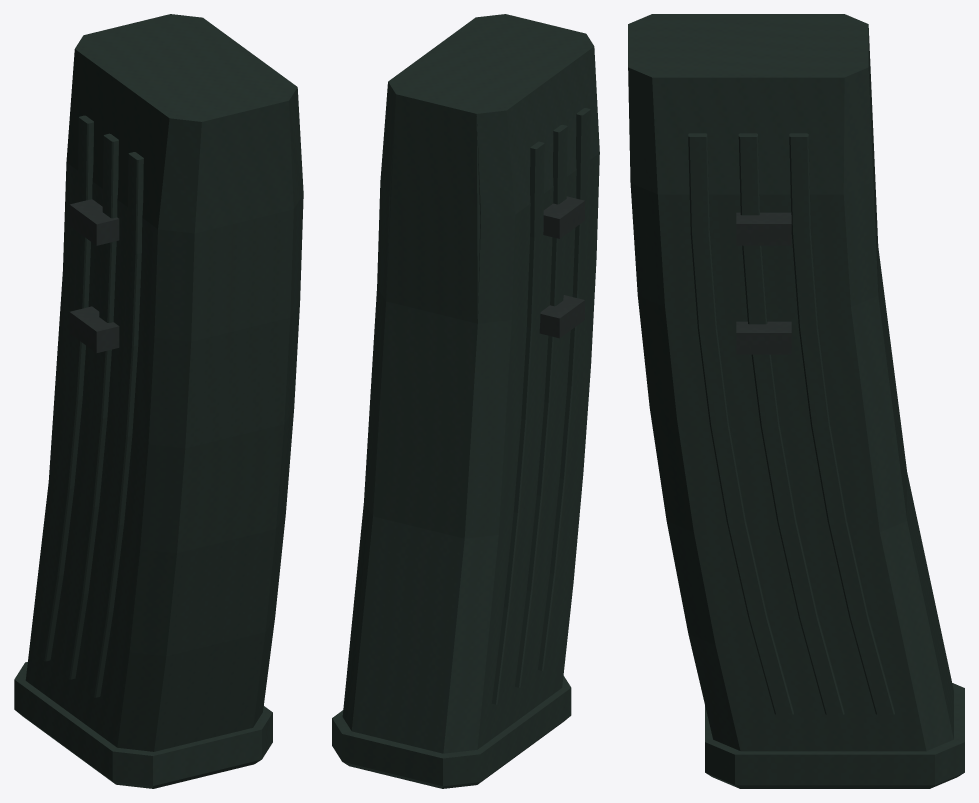
3 renders of one model, left to right at view 1: azimuth 30°, elevation 25°; view 2: azimuth 150°, elevation 25°; view 3: azimuth 270°, elevation 25°, orthographic. The views are drawn at different scales.
Visible parts, largest first — view 1: g36_30_individual_shell, g36_30_individual_shell.001, g36_30_coupling_lug; view 2: g36_30_individual_shell.001, g36_30_individual_shell, g36_30_coupling_lug; view 3: g36_30_individual_shell, g36_30_individual_shell.001, g36_30_coupling_lug.
Part boxes in pixels (left/top/right/bottom): g36_30_individual_shell: left=14, top=14, right=303, bottom=788; g36_30_individual_shell.001: left=25, top=272, right=154, bottom=745; g36_30_coupling_lug: left=69, top=199, right=119, bottom=352; g36_30_individual_shell.001: left=342, top=94, right=596, bottom=753; g36_30_individual_shell: left=332, top=14, right=599, bottom=788; g36_30_coupling_lug: left=539, top=196, right=584, bottom=338; g36_30_individual_shell: left=628, top=14, right=964, bottom=788; g36_30_individual_shell.001: left=665, top=28, right=953, bottom=751; g36_30_coupling_lug: left=736, top=212, right=791, bottom=354.
Size of the model in its own units: 0.093 by 0.324 by 0.14.
2 materials, 2 textured.
